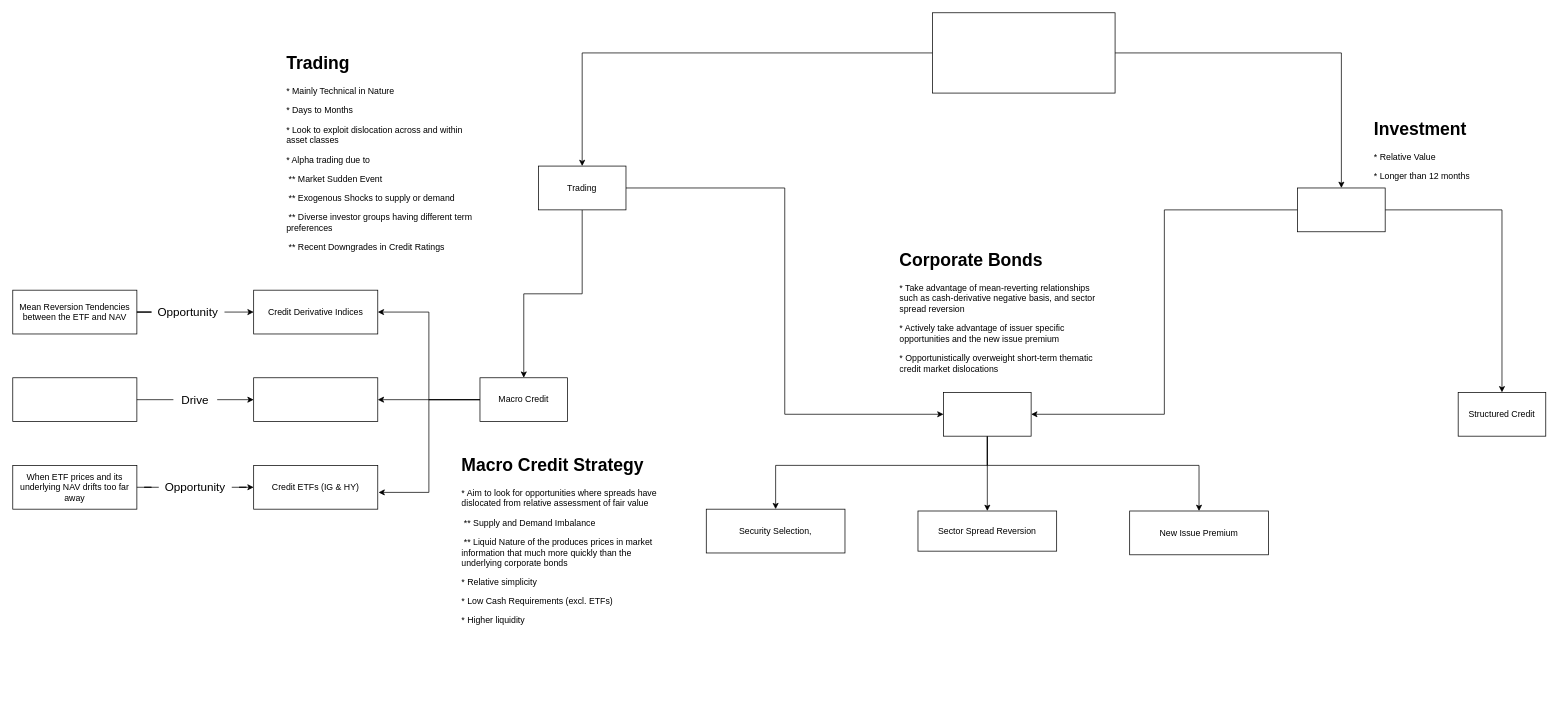
The diagram is 1559 pixels wide and 712 high, and some of its shapes have lost their labels. Each missing label, with the centre of its shape:
"Active DM" belongs at (1023,52).
"Corporates Bonds" belongs at (987,414).
"Credit Options" belongs at (315,399).
"Investment" belongs at (1341,209).
"Spread Volatility (implied)" belongs at (74,399).
